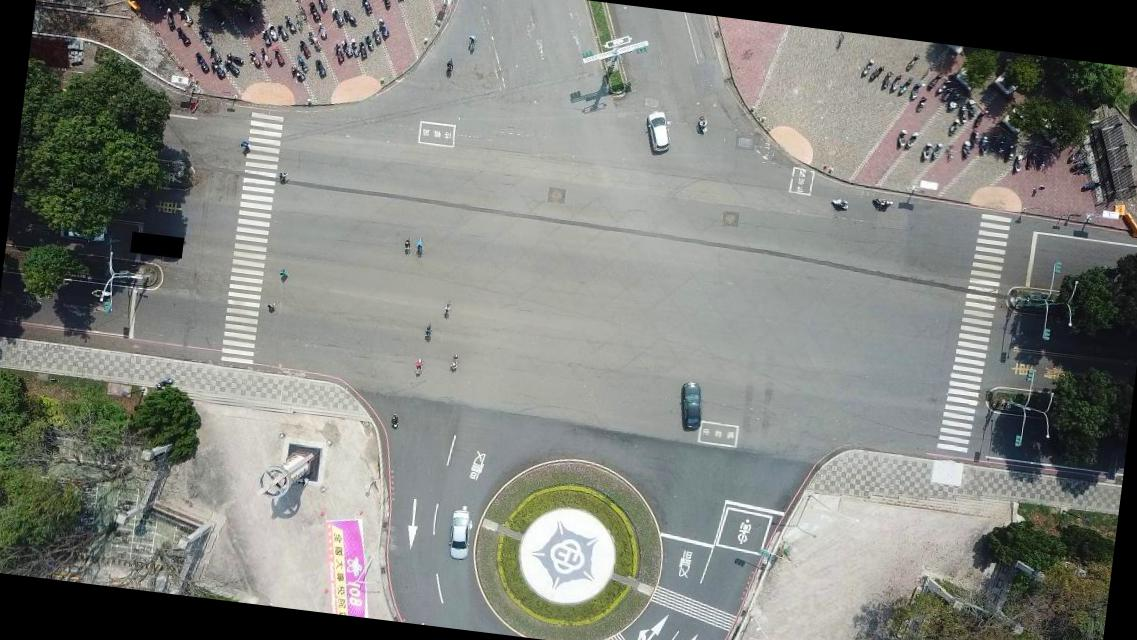vehicle: (674, 380, 704, 434), (641, 107, 673, 156), (445, 508, 473, 562), (54, 215, 106, 244)
